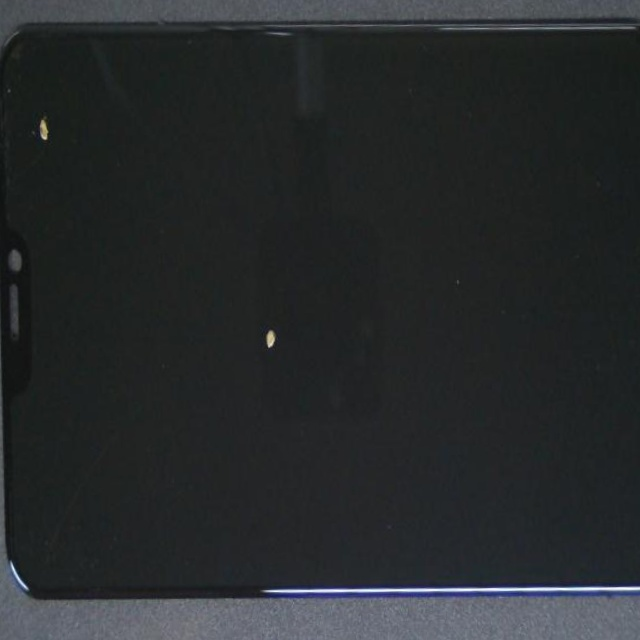stain: (138, 109, 414, 506), (0, 0, 71, 207)
